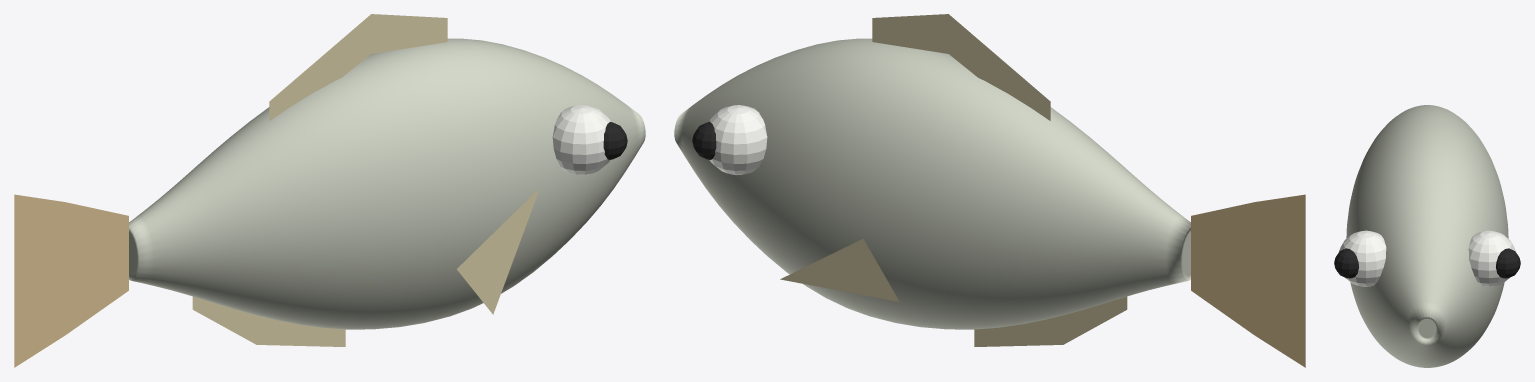
The model's file is mickey.glb.
3 views of the same model, side by side, from view 1: azimuth 30°, elevation 25°; view 2: azimuth 150°, elevation 25°; view 3: azimuth 270°, elevation 25° (orthographic). The views are drawn at different scales.
Parts seen in each view (by area): view 1: mickey_body, mickey_tail, mickey_dorsal, mickey_pec_R, mickey_anal, mickey_eyew_R, mickey_eye_R; view 2: mickey_body, mickey_tail, mickey_dorsal, mickey_pec_L, mickey_anal, mickey_eyew_L, mickey_eye_L; view 3: mickey_body, mickey_eyew_L, mickey_eyew_R, mickey_eye_L, mickey_eye_R.
Part boxes in pixels (x1,y1,x2,y2): mickey_body: (129, 38, 645, 329); mickey_tail: (14, 194, 128, 367); mickey_dorsal: (269, 14, 447, 120); mickey_pec_R: (457, 188, 539, 314); mickey_anal: (192, 296, 345, 346); mickey_eyew_R: (552, 105, 610, 174); mickey_eye_R: (603, 122, 627, 159); mickey_body: (674, 38, 1190, 329); mickey_tail: (1191, 194, 1305, 367); mickey_dorsal: (872, 14, 1050, 120); mickey_pec_L: (780, 239, 899, 301); mickey_anal: (974, 296, 1127, 346); mickey_eyew_L: (709, 105, 767, 174); mickey_eye_L: (692, 122, 716, 159); mickey_body: (1346, 105, 1508, 367); mickey_eyew_L: (1468, 230, 1516, 286); mickey_eyew_R: (1338, 230, 1386, 286); mickey_eye_L: (1496, 248, 1520, 278); mickey_eye_R: (1334, 248, 1358, 278).
Bounding box in the file's own units: 0.49 × 0.245 × 0.158.
